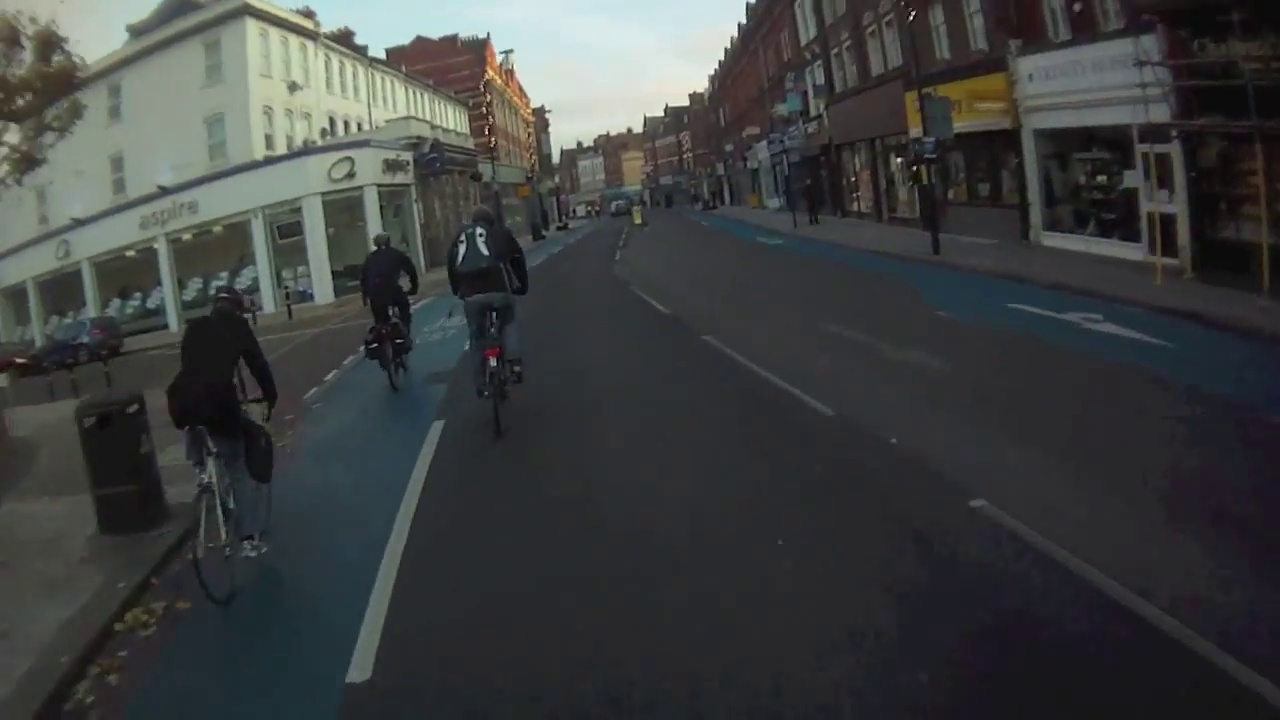cyclist_back: (172, 284, 283, 600), (451, 200, 533, 443), (356, 224, 421, 407)
